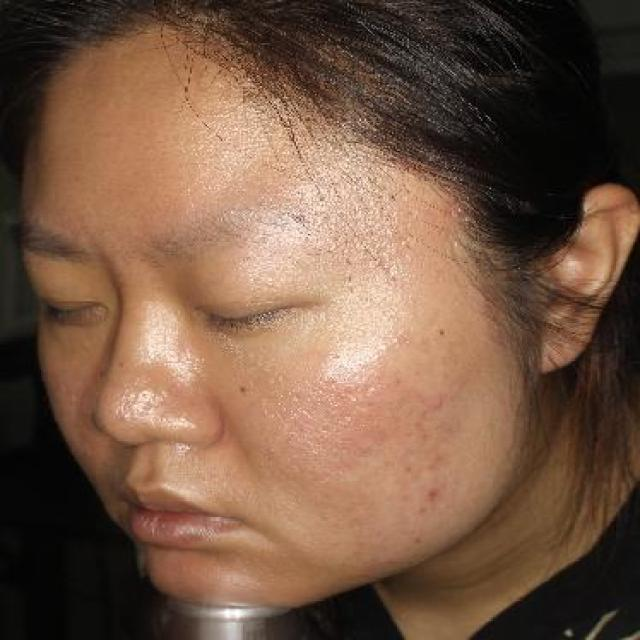blackheads: (428, 485, 447, 500), (433, 397, 448, 409)
dark spot: (429, 458, 442, 472), (402, 463, 418, 474)
whiteheads: (120, 409, 137, 425), (325, 370, 344, 384), (380, 343, 392, 354), (373, 258, 383, 270), (372, 352, 384, 362), (392, 334, 404, 343)
